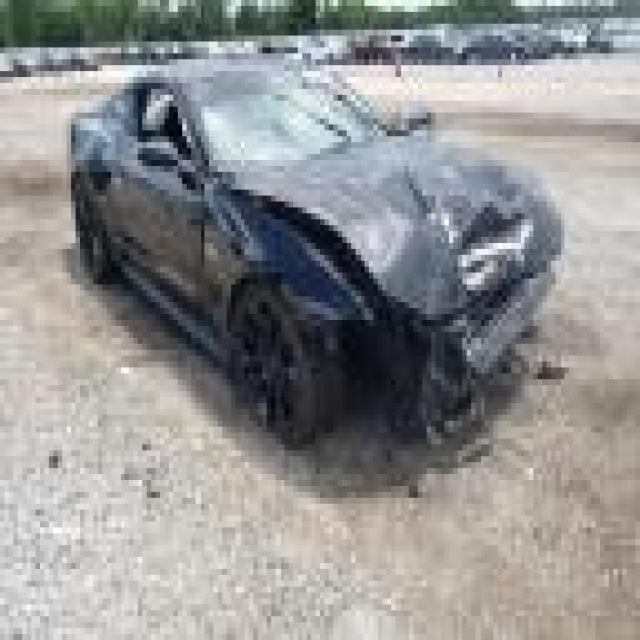severe: (204, 190, 562, 451)
